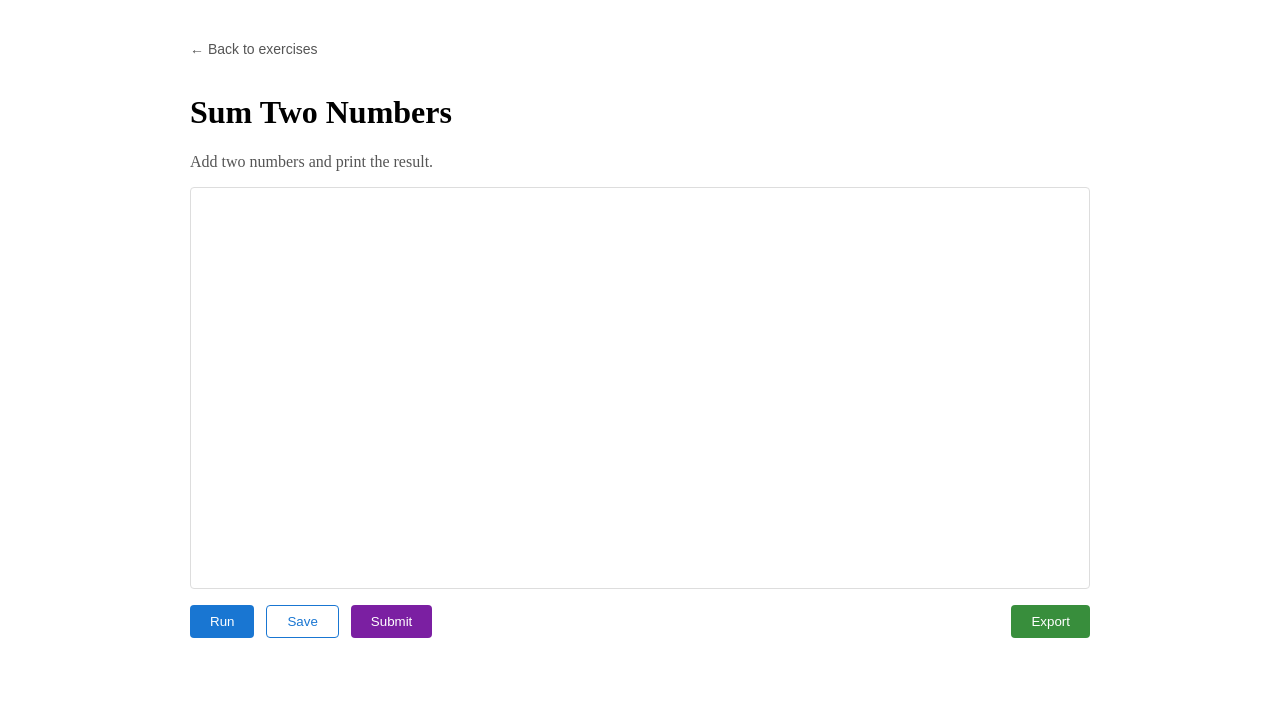
Test: Save and Submit › renders Save and Submit buttons and submits
Check: the button "Save" is shown, box [266,605,339,638]
Click the button "Submit" at (392, 621), box [351,605,432,638]
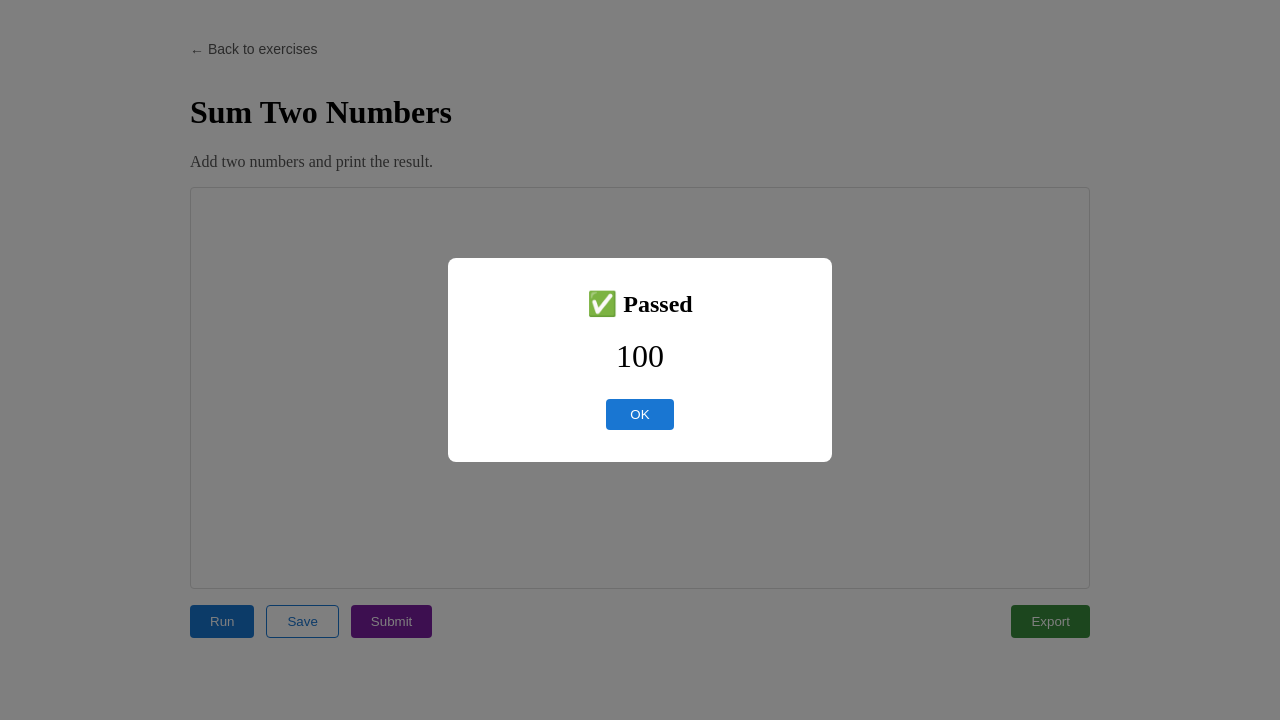
Check: the heading "✅ Passed" is shown, box [587,291,693,317]
